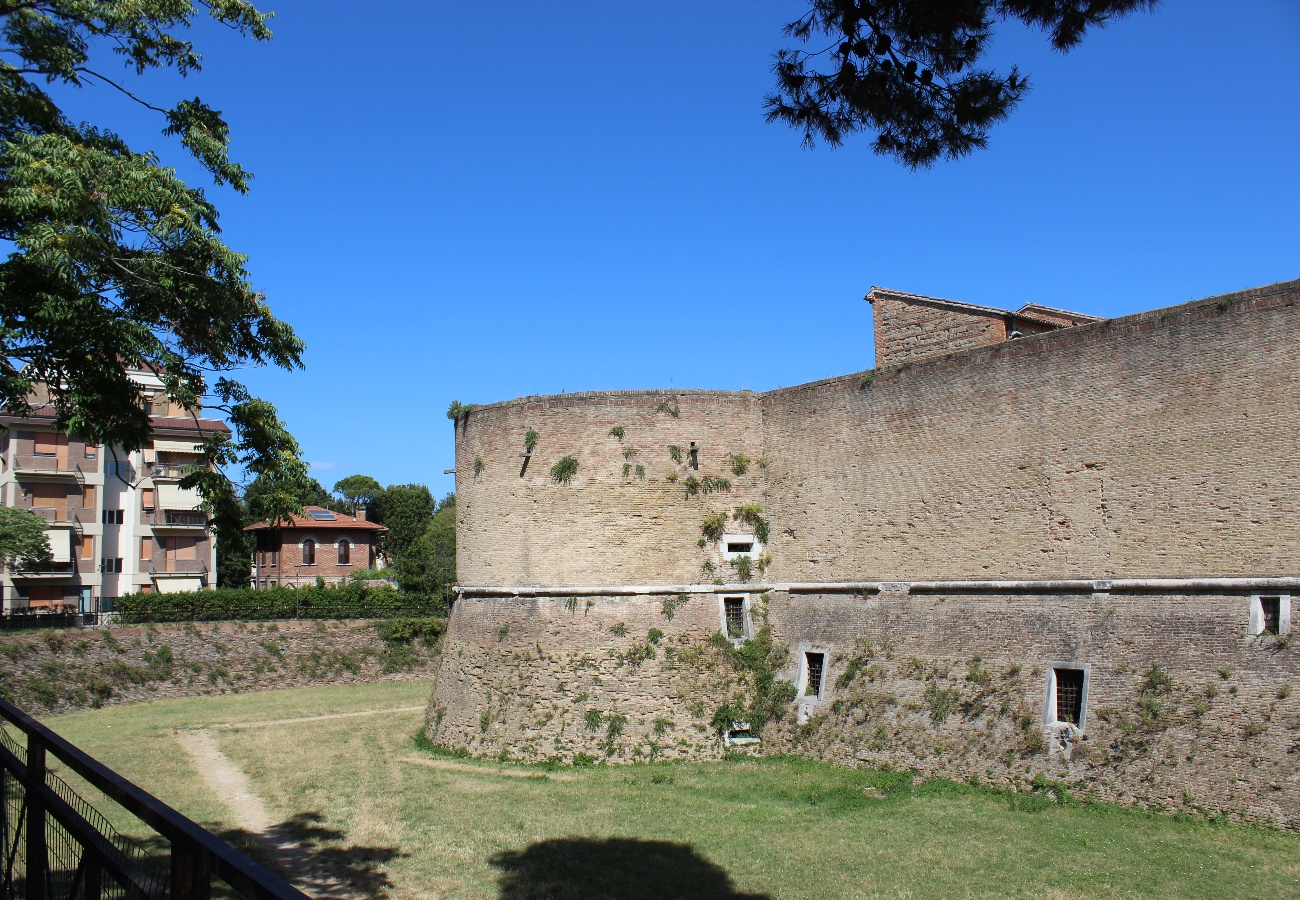Rocca Costanza: (449, 349, 1300, 796)
